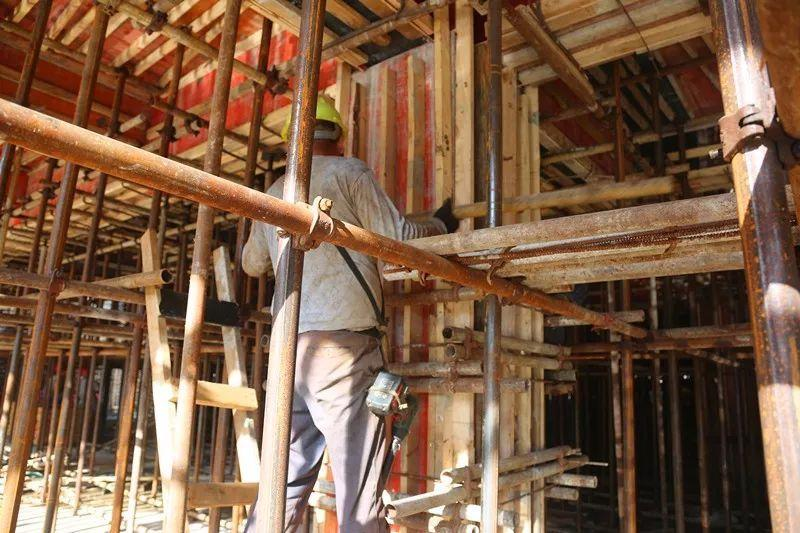helmet: (280, 97, 345, 143)
